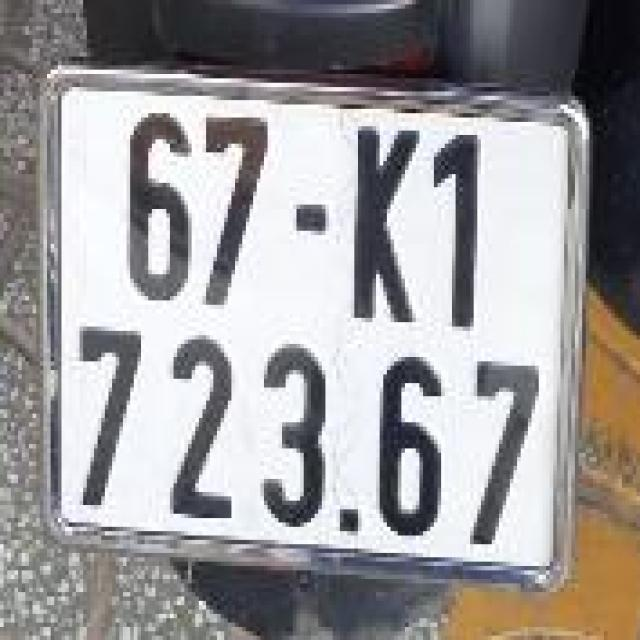1: (430, 126, 499, 344)
2: (161, 329, 237, 542)
3: (250, 335, 332, 536)
6: (112, 102, 199, 307), (364, 342, 451, 546)
7: (459, 342, 546, 564), (67, 309, 150, 523), (195, 102, 275, 320)
K: (338, 109, 421, 331)
